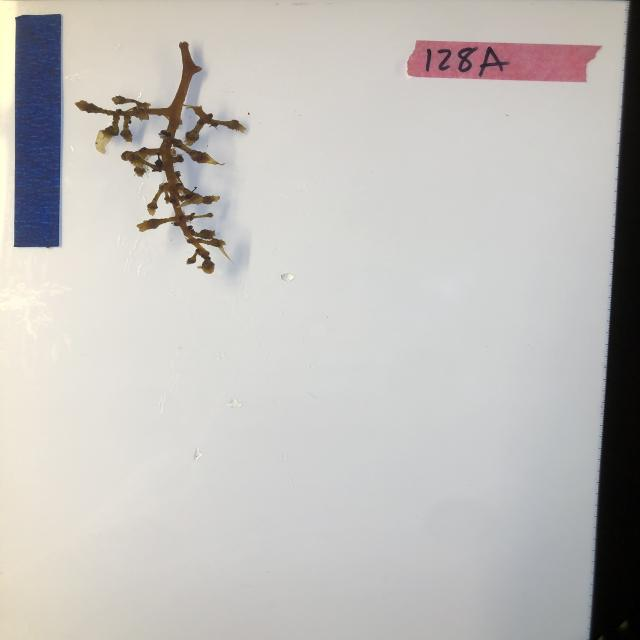index: (406, 35, 602, 85)
measure_label: (13, 11, 64, 251)
rachis_cluster: (74, 38, 252, 276)
